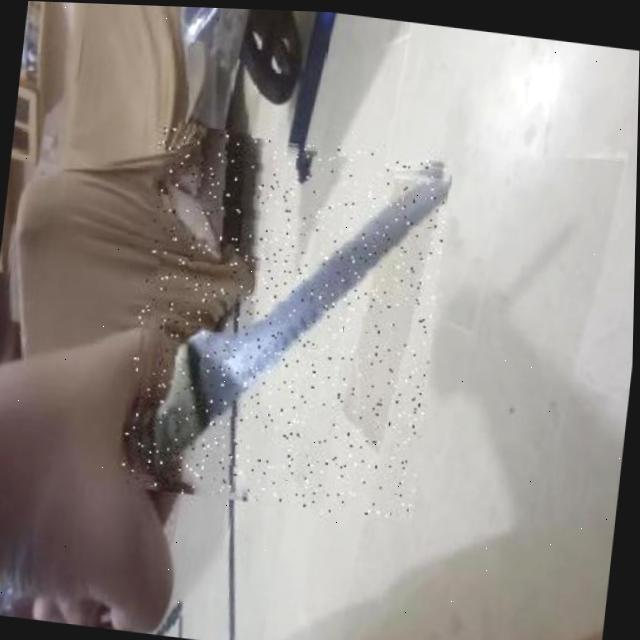knife: (120, 122, 450, 520)
